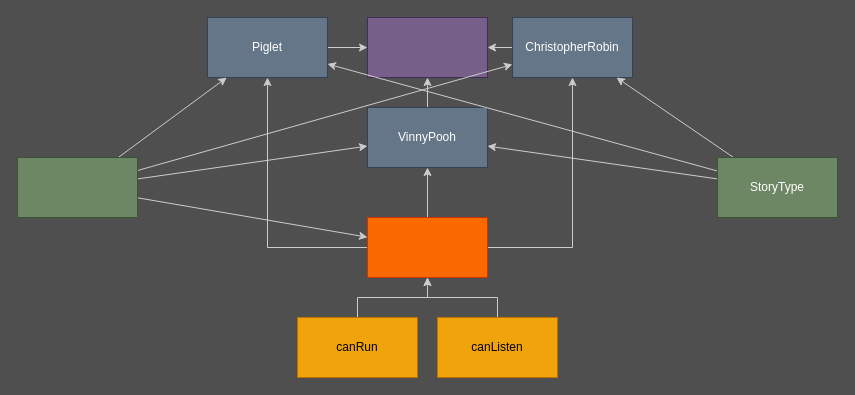
Image size: 855x395. Some labels were removed from this diagram. Here are the shapes that lost their labels. From the top down, the centre of each, then its label:
At (427,47): "Pooh".
At (77,187): "Location".
At (427,247): "RobinGroup".
